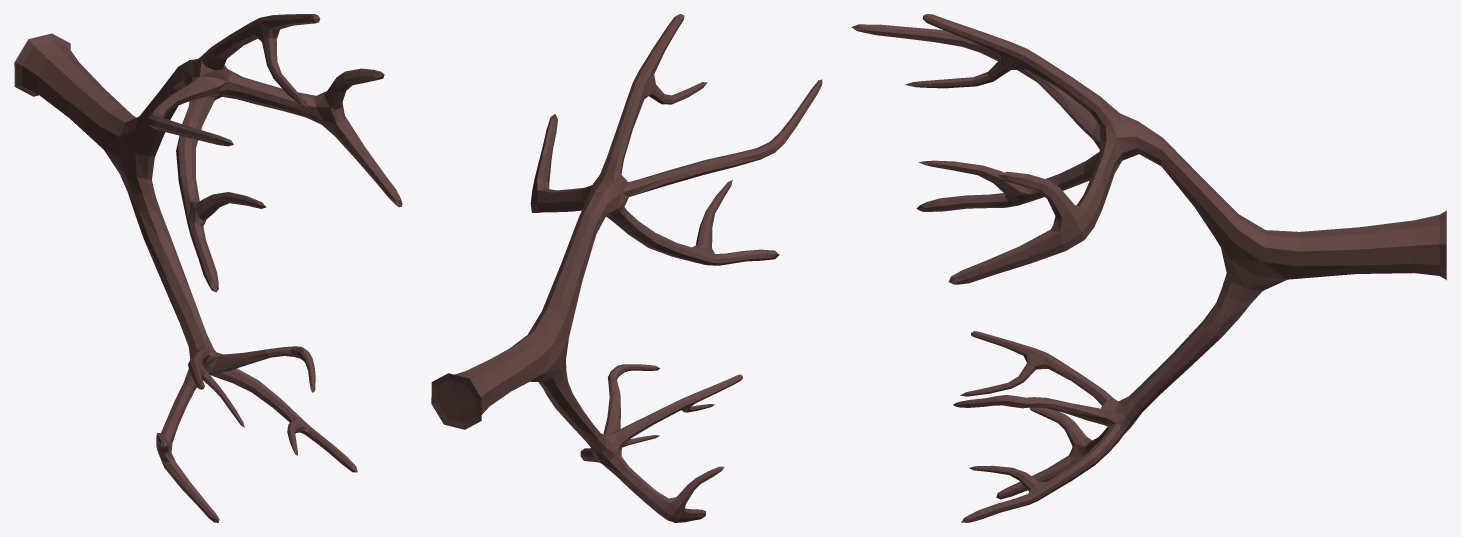
Rendered from tree-bare-deciduous-1-28-ft.obj.
3 views of the same model, side by side, from view 1: azimuth 30°, elevation 25°; view 2: azimuth 150°, elevation 25°; view 3: azimuth 270°, elevation 25° (orthographic). The views are drawn at different scales.
Parts seen in each view (by area): view 1: tree-bare-deciduous-1-28-ft; view 2: tree-bare-deciduous-1-28-ft; view 3: tree-bare-deciduous-1-28-ft.
Boxes of the visible parts, x1=… form: tree-bare-deciduous-1-28-ft: x1=14, y1=14, x2=402, y2=522; tree-bare-deciduous-1-28-ft: x1=431, y1=14, x2=822, y2=522; tree-bare-deciduous-1-28-ft: x1=851, y1=14, x2=1446, y2=522.
Size of the model in its own units: 158 by 321 by 336.
